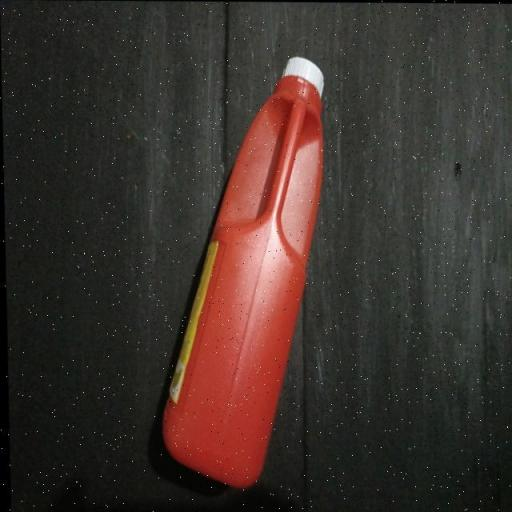plastic: (134, 42, 352, 493)
